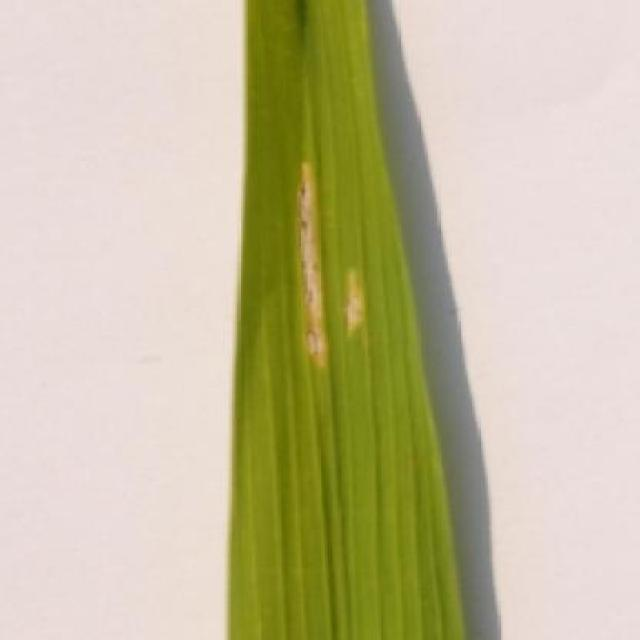Brown_Spot: (223, 0, 477, 640)
